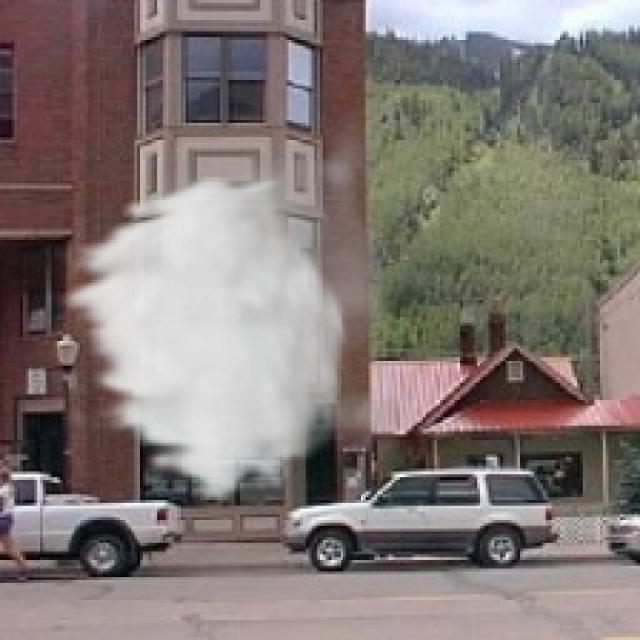smoke: (54, 103, 417, 506)
